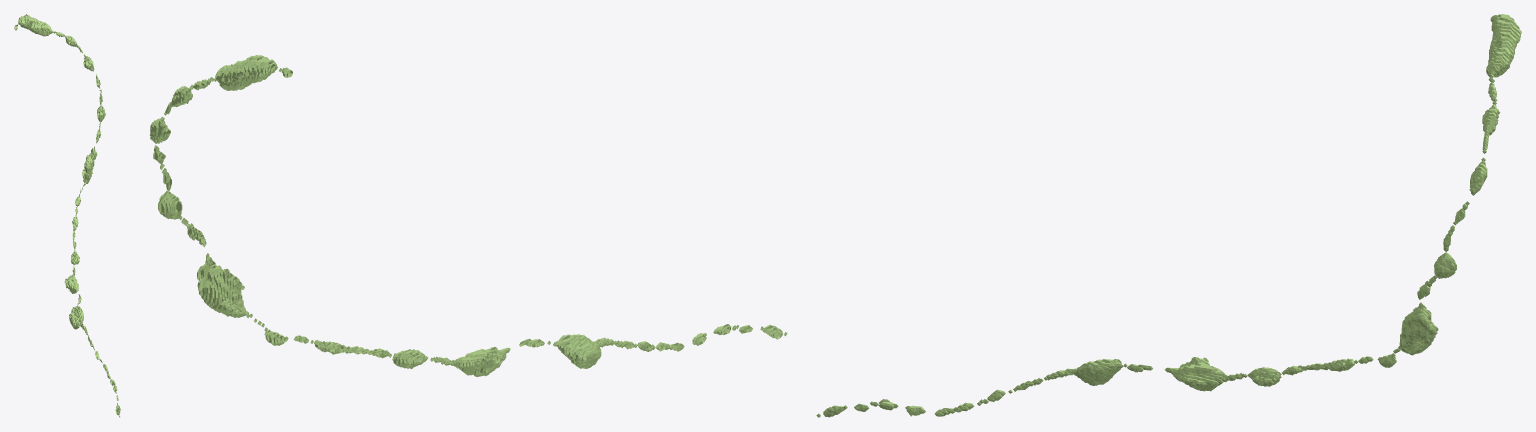
File: SVV_PVPR.gltf
The picture shows the model from 3 angles, left to right: view 1: azimuth 30°, elevation 25°; view 2: azimuth 150°, elevation 25°; view 3: azimuth 270°, elevation 25°; orthographic projection. The views are drawn at different scales.
Parts seen in each view (by area): view 1: PVPR; view 2: PVPR; view 3: PVPR.
Part boxes in pixels (bbox=[...]): PVPR: bbox=[14, 14, 120, 417]; PVPR: bbox=[149, 55, 787, 376]; PVPR: bbox=[816, 14, 1521, 417].
Bounding box in the file's own units: 91353 × 147084 × 196017.
